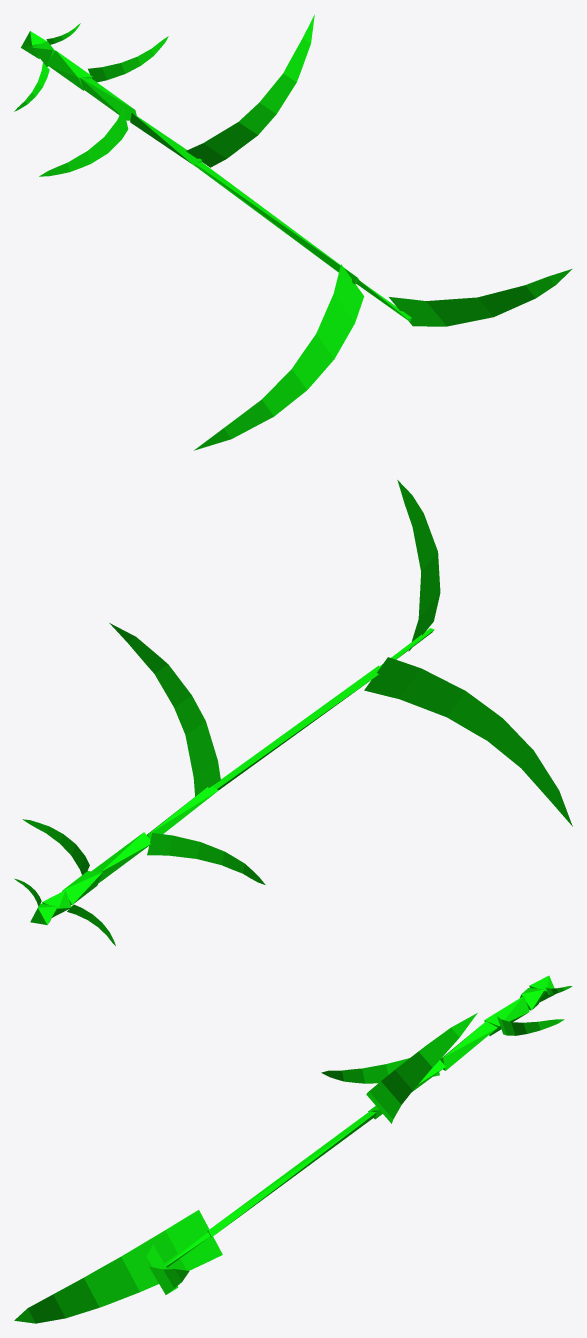
The model's file is usm_20_Beer_2018-08-16_0.obj.
The picture shows the model from 3 angles, top to bottom: view 1: azimuth 30°, elevation 25°; view 2: azimuth 150°, elevation 25°; view 3: azimuth 330°, elevation 25°; orthographic projection. The views are drawn at different scales.
Visible parts, largest first — view 1: vid_14, vid_16, vid_12, vid_13, vid_10, vid_8, vid_9, vid_11, vid_7; view 2: vid_14, vid_12, vid_16, vid_10, vid_13, vid_9, vid_8, vid_11, vid_7; view 3: vid_14, vid_12, vid_13, vid_10, vid_16, vid_9, vid_8, vid_7.
Boxes of the visible parts, x1,y1,x2,y2 form: vid_14: (194,264,364,450); vid_16: (389,269,572,326); vid_12: (186,14,314,167); vid_13: (195,162,359,284); vid_10: (39,108,128,176); vid_8: (88,36,168,82); vid_9: (80,77,136,120); vid_11: (130,113,201,168); vid_7: (46,50,92,90); vid_14: (364,657,572,826); vid_12: (109,623,220,796); vid_16: (397,480,440,651); vid_10: (147,833,265,884); vid_13: (212,665,379,789); vid_9: (92,832,150,883); vid_8: (22,819,89,874); vid_11: (147,786,218,839); vid_7: (62,871,102,904); vid_14: (14,1210,222,1323); vid_12: (366,1013,477,1123); vid_13: (207,1111,376,1237); vid_10: (321,1058,439,1083); vid_16: (146,1244,189,1294); vid_9: (440,1021,497,1070); vid_8: (497,1016,564,1035); vid_7: (484,996,529,1035).
Bounding box in the file's own units: 58.57 × 48.65 × 158.
